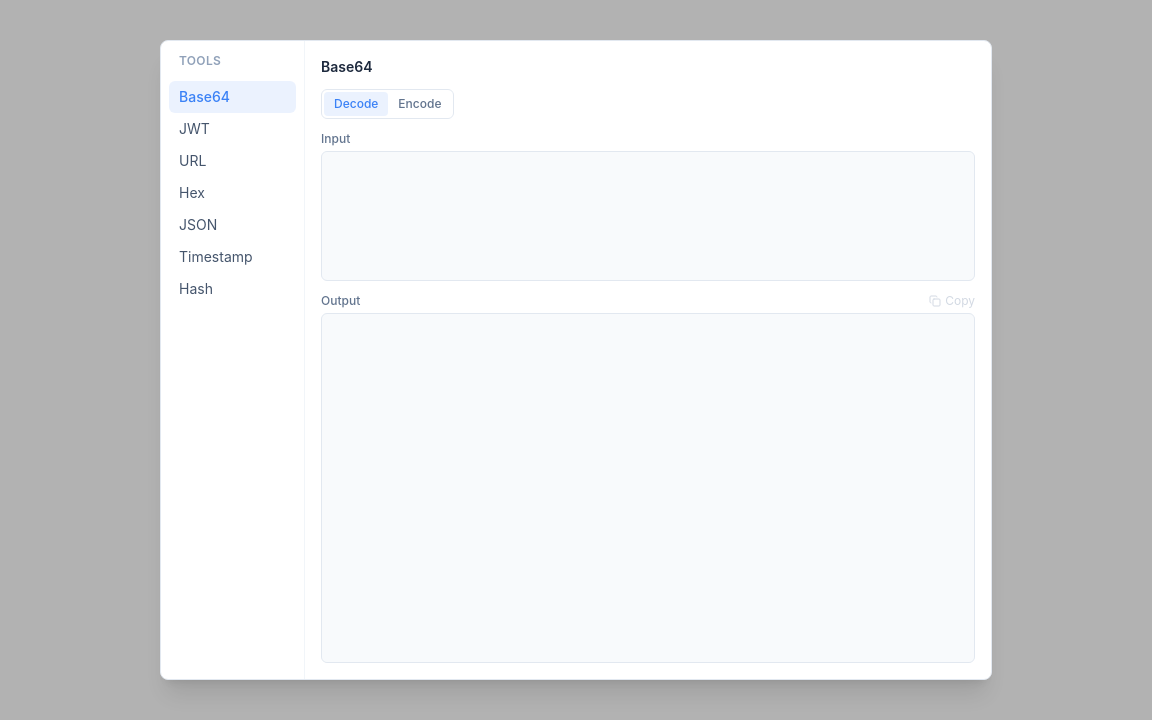
ToolsDialog › switches between tool tabs
This screenshot has width=1152, height=720.
Step 1. Click the button "URL" → (232, 161), box [169,145,296,177]
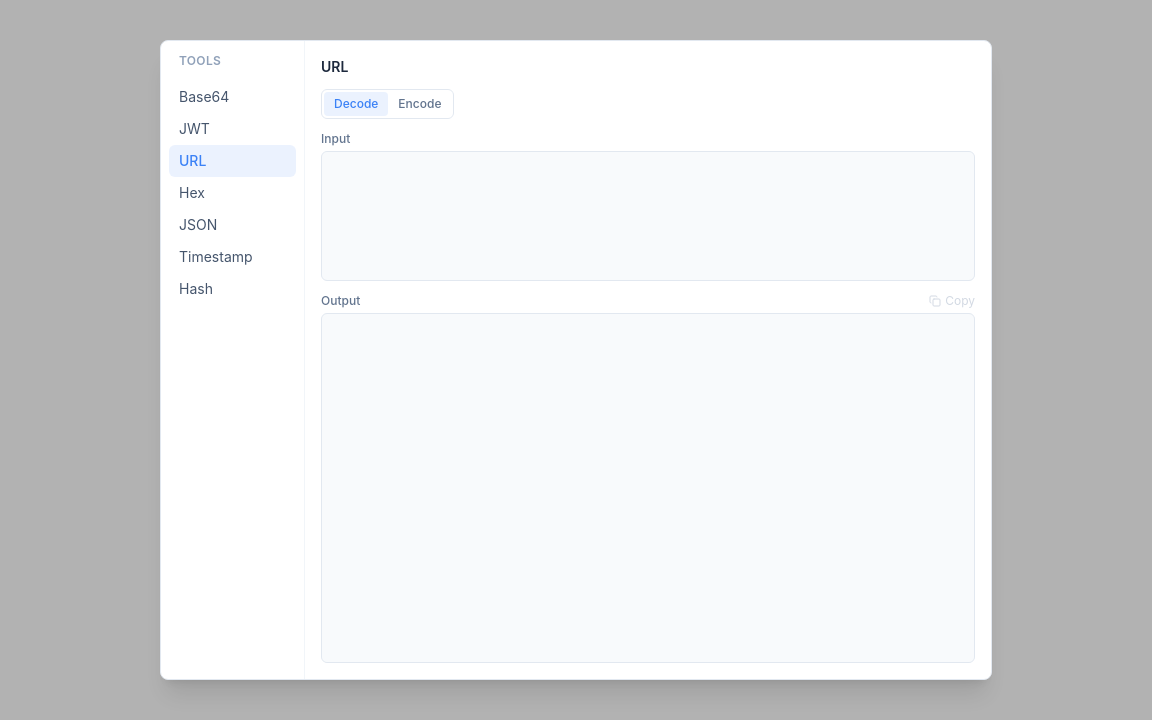
expect the heading "URL" is shown: met, box [321,58,348,75]
Step 2. Click the button "Hash" → (232, 289), box [169,273,296,305]
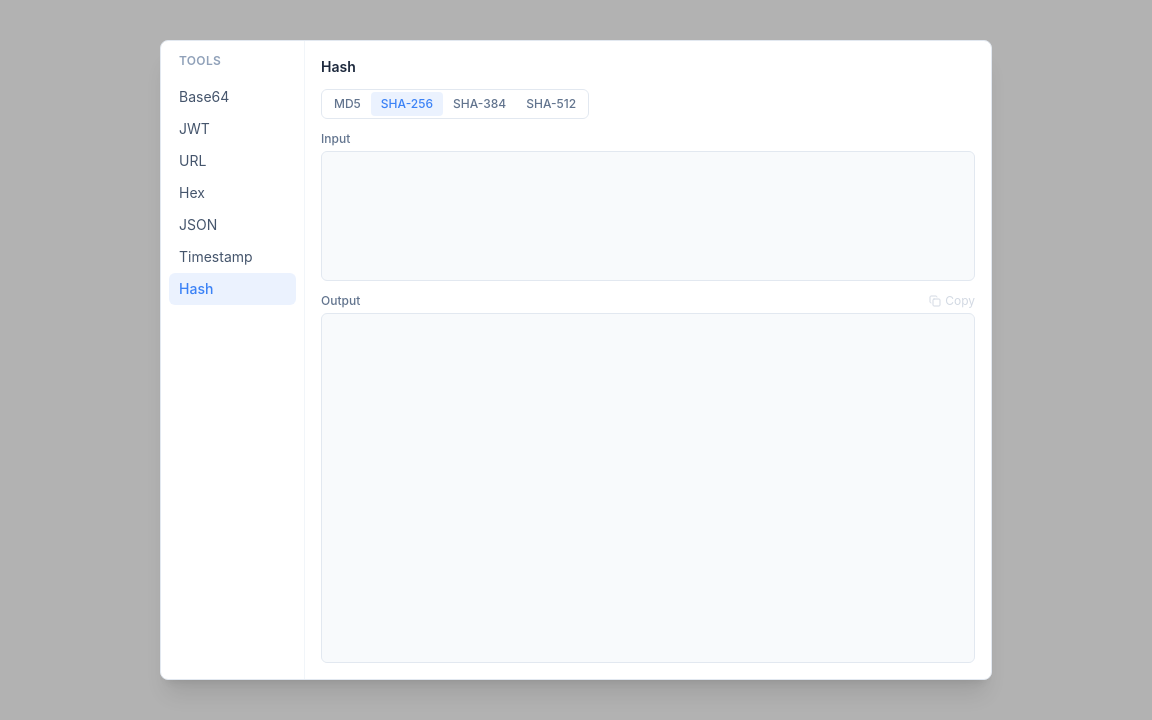
expect the heading "Hash" is shown: met, box [321,58,356,75]
